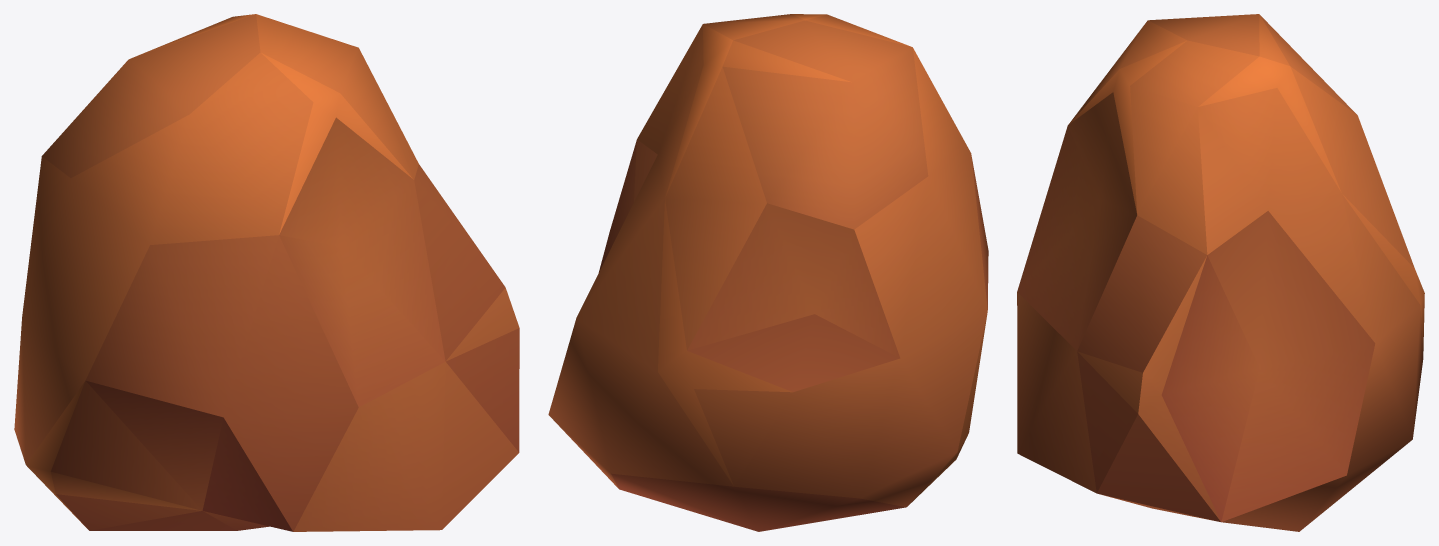
Rendered from Copper_Nugget_Large.glb.
3 views of the same model, side by side, from view 1: azimuth 30°, elevation 25°; view 2: azimuth 150°, elevation 25°; view 3: azimuth 270°, elevation 25° (orthographic). The views are drawn at different scales.
Visible parts, largest first — view 1: Copper_Nugget_Large; view 2: Copper_Nugget_Large; view 3: Copper_Nugget_Large.
Part boxes in pixels (box(x1,y1,x2,y2)): Copper_Nugget_Large: box(14, 14, 519, 531); Copper_Nugget_Large: box(548, 14, 988, 531); Copper_Nugget_Large: box(1017, 14, 1424, 531).
Bounding box in the file's own units: 0.4271 × 0.4656 × 0.3947.
1 material, 1 textured.
